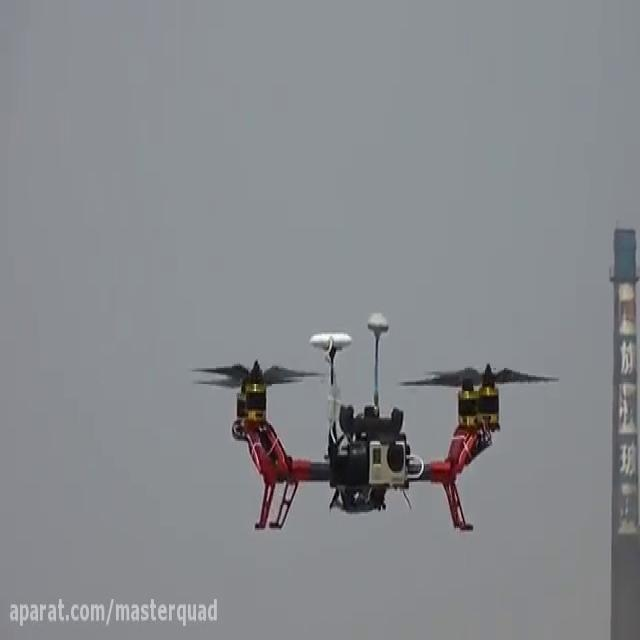drone: (188, 304, 562, 534)
